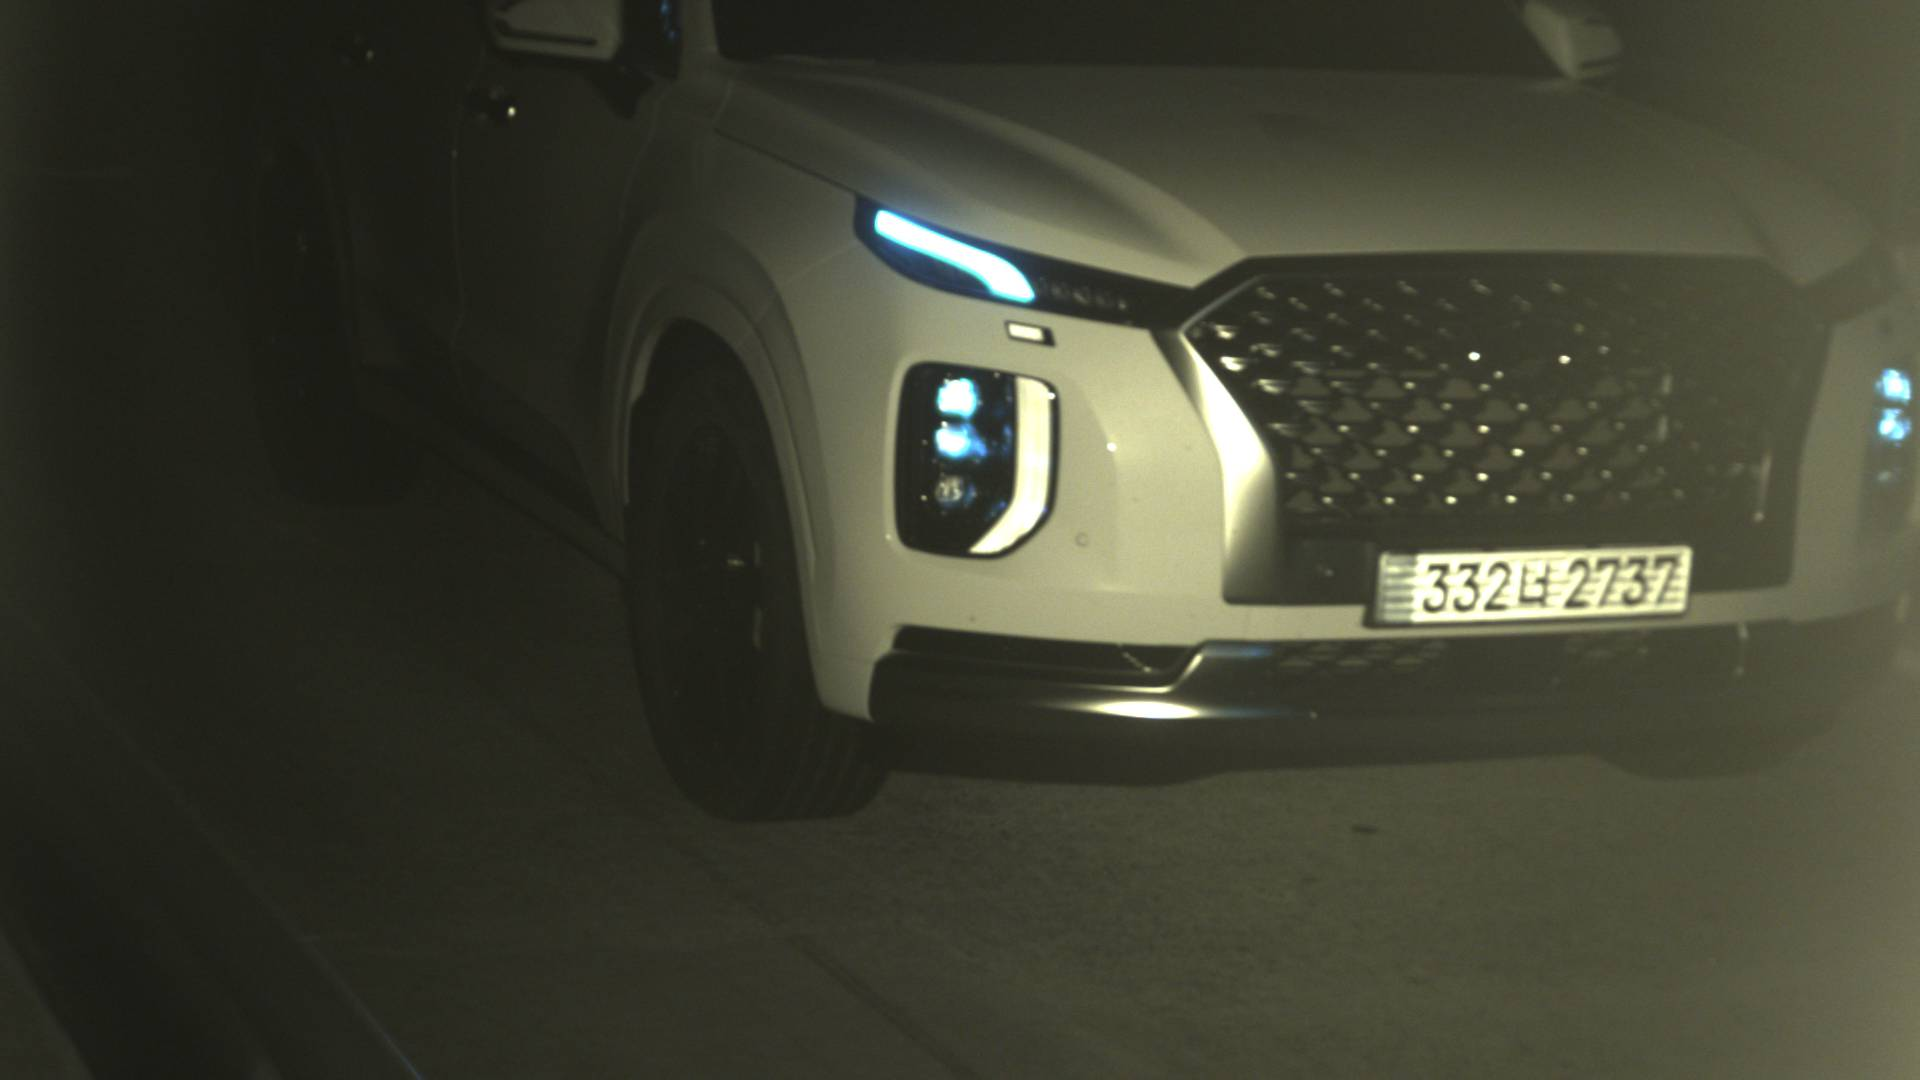car: (255, 1, 1917, 831)
plate: (1371, 543, 1695, 631)
